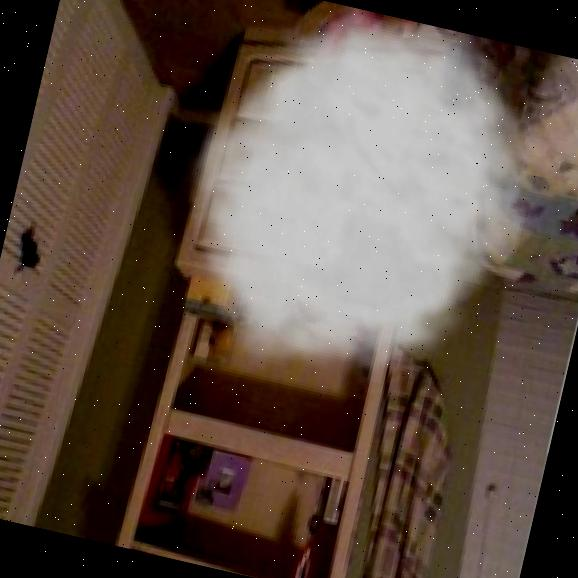smoke: (140, 0, 578, 430)
